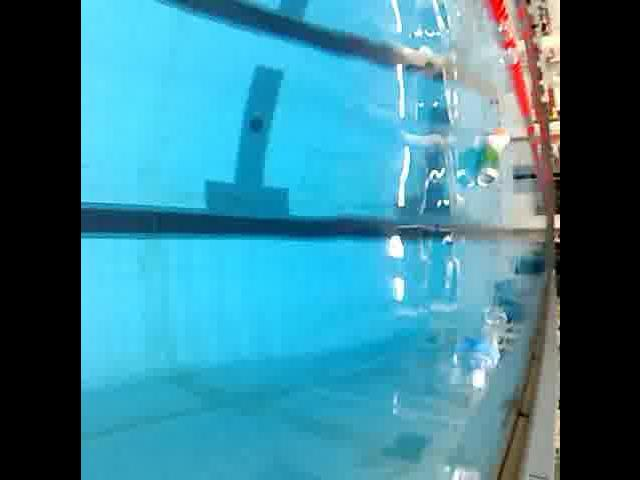Bottle: (462, 304, 512, 393), (441, 458, 487, 480), (489, 124, 512, 150)
Can: (470, 141, 500, 196)
